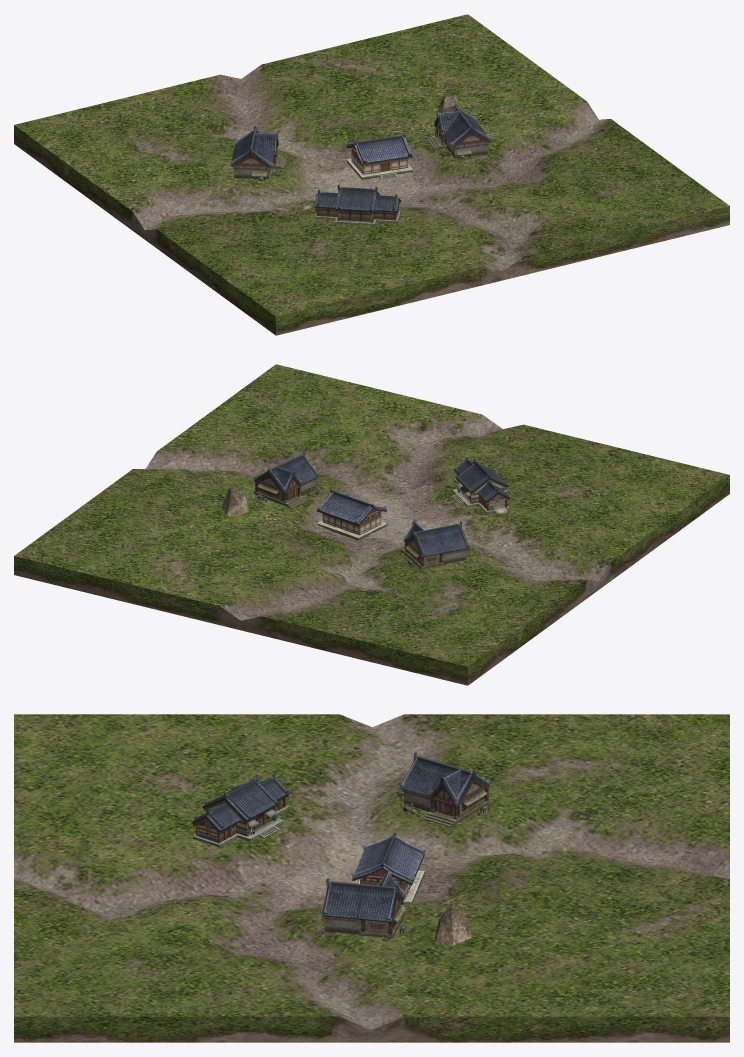
File: map011.FBX
3 renders of one model, top to bottom at view 1: azimuth 30°, elevation 25°; view 2: azimuth 150°, elevation 25°; view 3: azimuth 270°, elevation 25°, orthographic. The views are drawn at different scales.
Parts seen in each view (by area): view 1: map011, house193, house192, house189; view 2: map011, house193, house192, house189, Box036; view 3: map011, house193, house192, house189, Box036.
Boxes of the visible parts, left/top/right/bottom form: map011: left=14, top=14, right=729, bottom=335; house193: left=229, top=104, right=492, bottom=180; house192: left=301, top=184, right=400, bottom=225; house189: left=346, top=134, right=412, bottom=179; map011: left=14, top=364, right=729, bottom=685; house193: left=253, top=451, right=469, bottom=569; house192: left=452, top=456, right=509, bottom=517; house189: left=317, top=489, right=386, bottom=540; Box036: left=221, top=487, right=248, bottom=516; map011: left=14, top=714, right=729, bottom=1042; house193: left=322, top=752, right=490, bottom=938; house192: left=192, top=773, right=294, bottom=847; house189: left=351, top=832, right=426, bottom=903; Box036: left=434, top=904, right=471, bottom=945.
Size of the model in its own units: 100 by 10.73 by 100.
